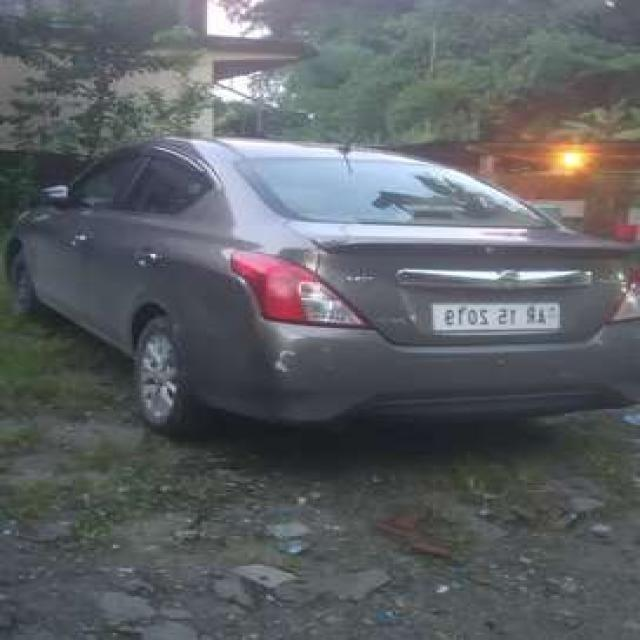license_plate: (420, 298, 569, 335)
